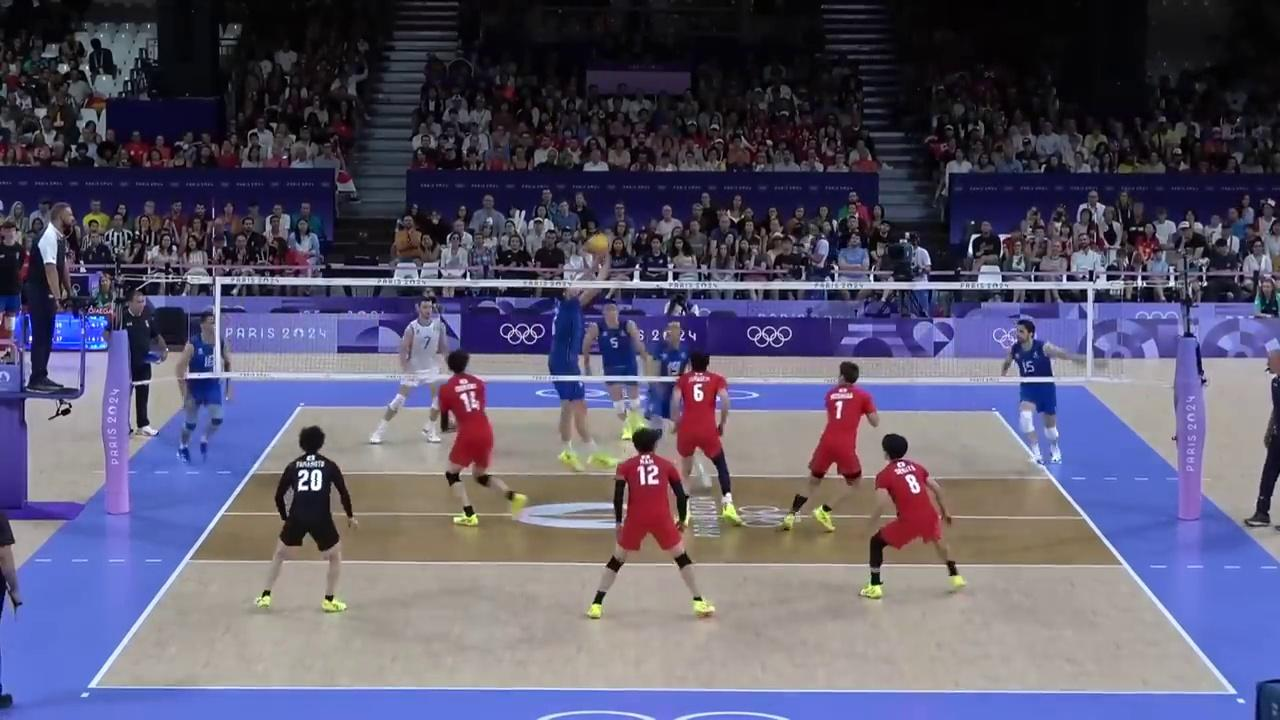ball: (587, 233, 609, 254)
